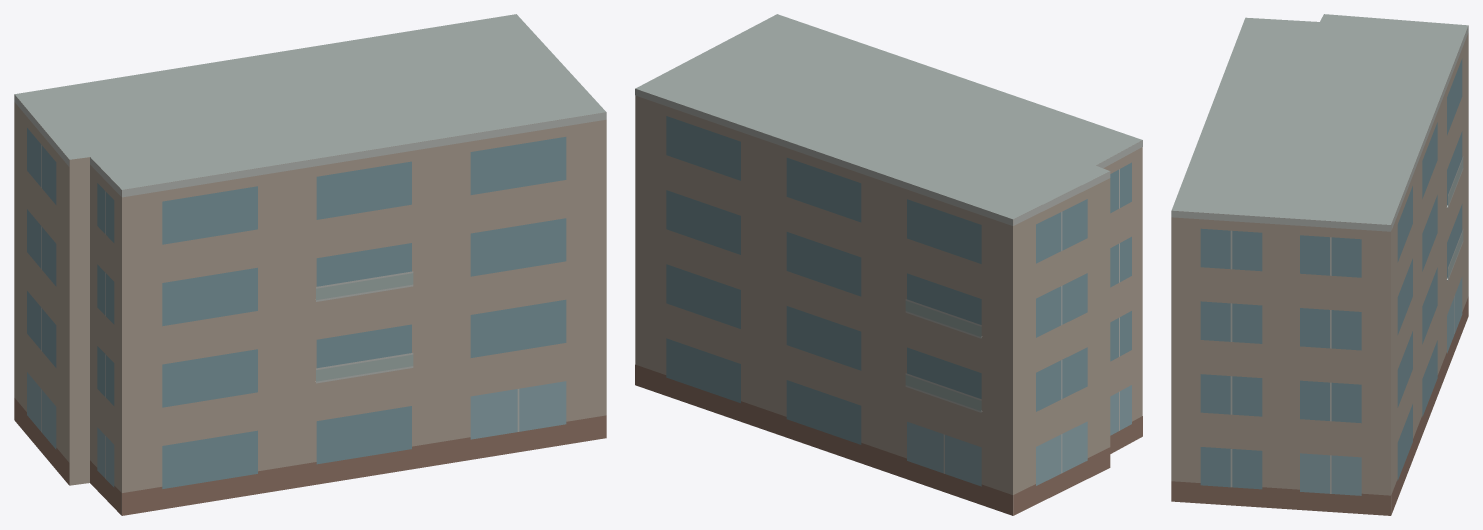
File: survey-upis-32746840.glb
The picture shows the model from 3 angles, left to right: view 1: azimuth 30°, elevation 25°; view 2: azimuth 150°, elevation 25°; view 3: azimuth 270°, elevation 25°; orthographic projection. The views are drawn at different scales.
Parts seen in each view (by area): view 1: survey-upis-32746840.tmp; view 2: survey-upis-32746840.tmp; view 3: survey-upis-32746840.tmp.
Part boxes in pixels (x1,y1,x2,y2): survey-upis-32746840.tmp: [14, 14, 606, 515]; survey-upis-32746840.tmp: [635, 14, 1142, 515]; survey-upis-32746840.tmp: [1171, 14, 1468, 515].
Bounding box in the file's own units: 16.51 × 10.6 × 9.83.
